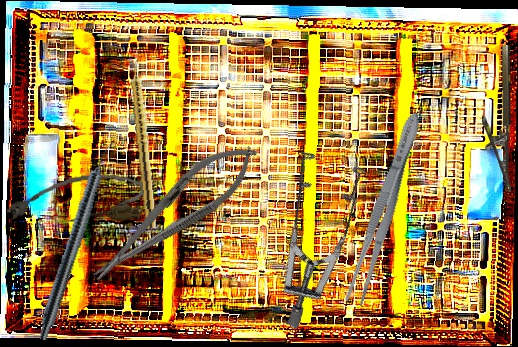Cannula: (4, 171, 146, 229)
Dressing Forceps: (341, 108, 428, 310)
Handpiece: (34, 136, 119, 343), (127, 56, 161, 229)
Needle Holder: (78, 128, 270, 297), (482, 45, 511, 192)
Speculum: (207, 127, 413, 332)
